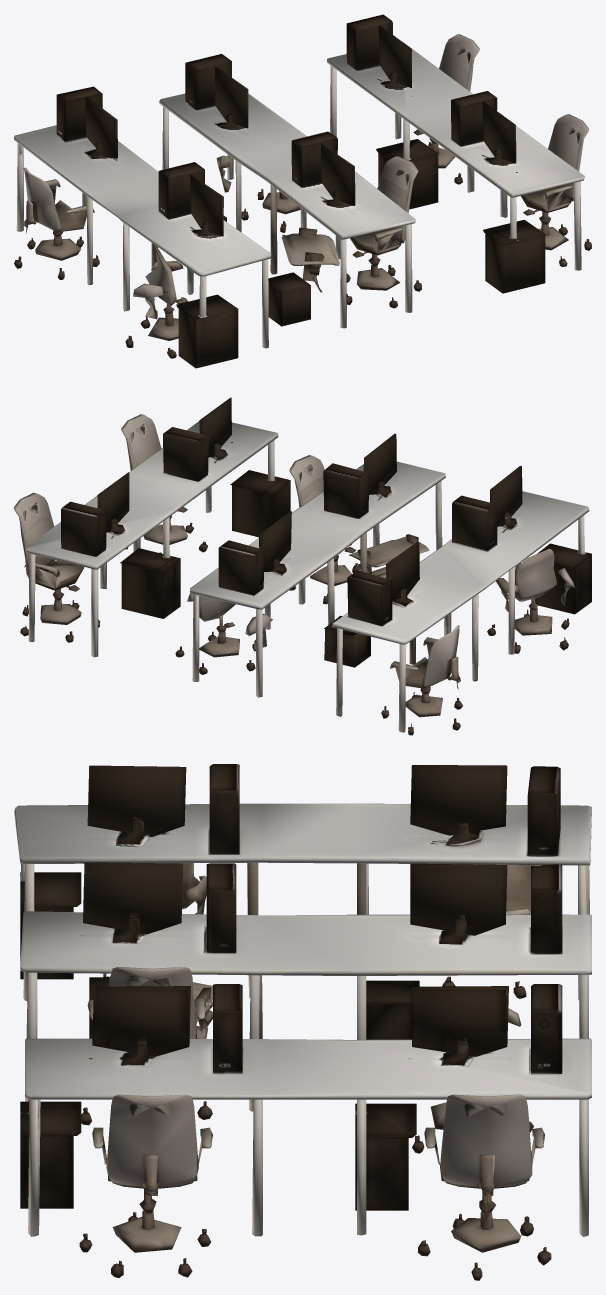
The model's file is Computer room.glb.
3 renders of one model, top to bottom at view 1: azimuth 30°, elevation 25°; view 2: azimuth 150°, elevation 25°; view 3: azimuth 270°, elevation 25°, orthographic. The views are drawn at different scales.
Visible parts, largest first — view 1: aiprintgen_node_8a1af439-19bd-4d3f-aba7-631975305859; view 2: aiprintgen_node_8a1af439-19bd-4d3f-aba7-631975305859; view 3: aiprintgen_node_8a1af439-19bd-4d3f-aba7-631975305859.
Boxes of the visible parts, x1=… form: aiprintgen_node_8a1af439-19bd-4d3f-aba7-631975305859: x1=14, y1=14, x2=591, y2=368; aiprintgen_node_8a1af439-19bd-4d3f-aba7-631975305859: x1=14, y1=397, x2=591, y2=735; aiprintgen_node_8a1af439-19bd-4d3f-aba7-631975305859: x1=14, y1=764, x2=591, y2=1280.
Bounding box in the file's own units: 0.998 × 0.3223 × 0.7207.
1 material, 1 textured.
